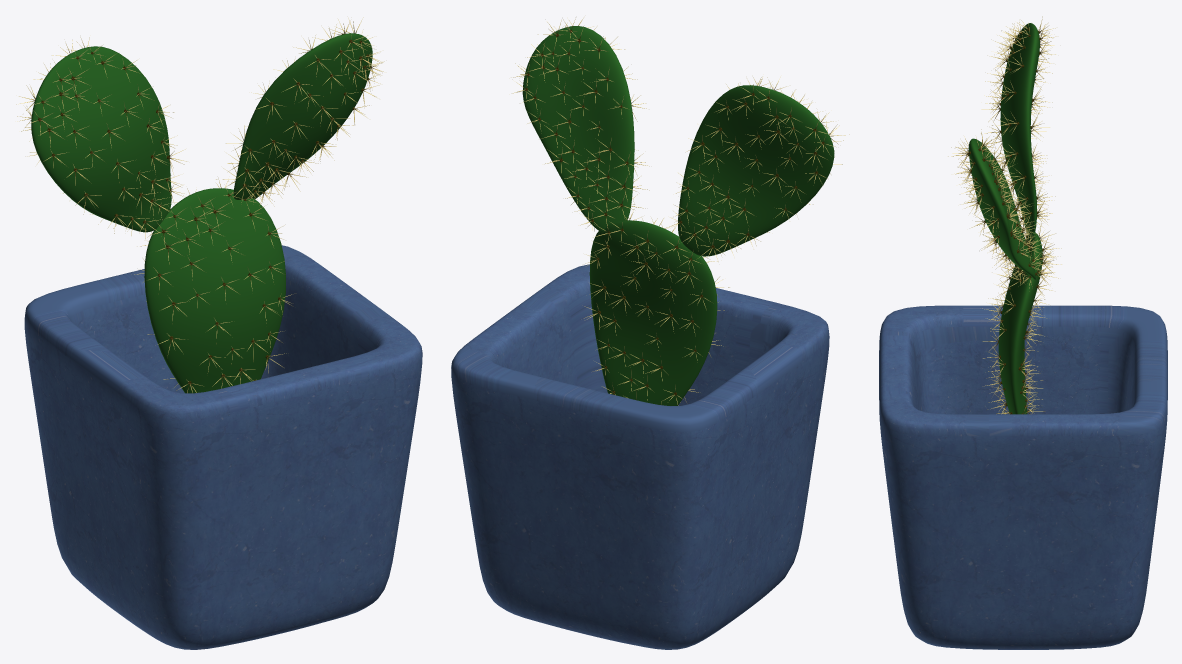
The model's file is OPUNTIA_MICRODASYS_BLUE_CERAMIC_POT.glb.
3 renders of one model, left to right at view 1: azimuth 30°, elevation 25°; view 2: azimuth 150°, elevation 25°; view 3: azimuth 270°, elevation 25°, orthographic. The views are drawn at different scales.
Parts seen in each view (by area): view 1: pot01, Pear Cactus1, Pear Cactus4, Pear Cactus3; view 2: pot01, Pear Cactus1, Pear Cactus4, Pear Cactus3; view 3: pot01, Pear Cactus4, Pear Cactus1, Pear Cactus3.
Part boxes in pixels (x1,y1,x2,y2): pot01: (24,245,422,649); Pear Cactus1: (144,188,285,393); Pear Cactus4: (31,46,171,232); Pear Cactus3: (233,33,372,199); pot01: (451,264,829,649); Pear Cactus1: (589,220,717,405); Pear Cactus4: (678,85,834,256); Pear Cactus3: (522,26,634,232); pot01: (879,305,1167,649); Pear Cactus4: (1000,23,1039,233); Pear Cactus1: (998,231,1042,414); Pear Cactus3: (968,138,1036,279).
Size of the model in its own units: 1.17 by 1.84 by 0.91.
Materials: 4 (2 with a texture image).
